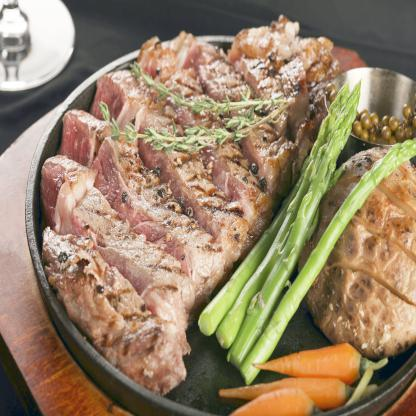Carne: (103, 71, 243, 221), (36, 225, 178, 367), (64, 108, 206, 232), (44, 152, 174, 272), (210, 142, 258, 203)
